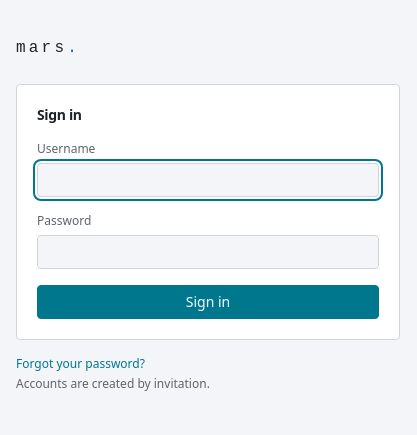
Test: LoginPage › reports invalid credentials and clears only the password
The image size is (417, 435).
Type "admin" into the field labelled "Username".
click(208, 180); type("admin")  # box [37, 163, 379, 197]
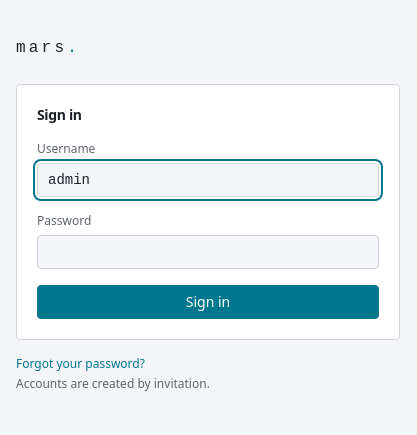
Type "changeme" into the password field labelled "Password".
click(208, 252); type("changeme")  # box [37, 235, 379, 269]
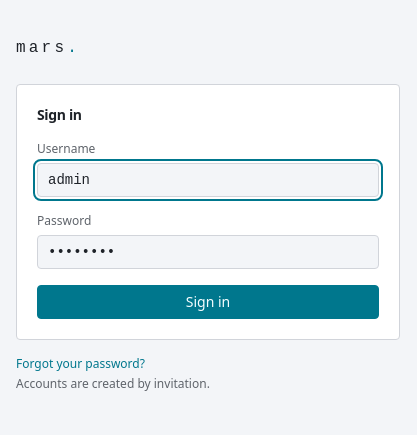
Click the button "Sign in".
click(208, 302)  # box [37, 285, 379, 319]
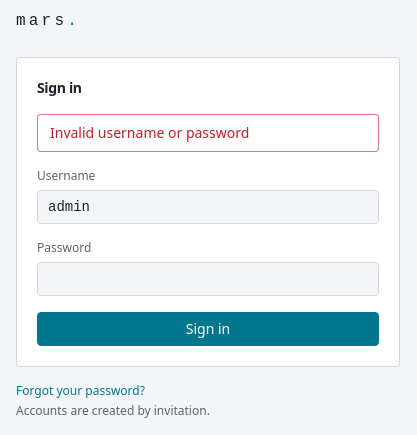
Expected: the message reads "Invalid username or password", [50, 123, 249, 142]
Expected: the password field labelled "Password" is empty, [37, 262, 379, 296]
